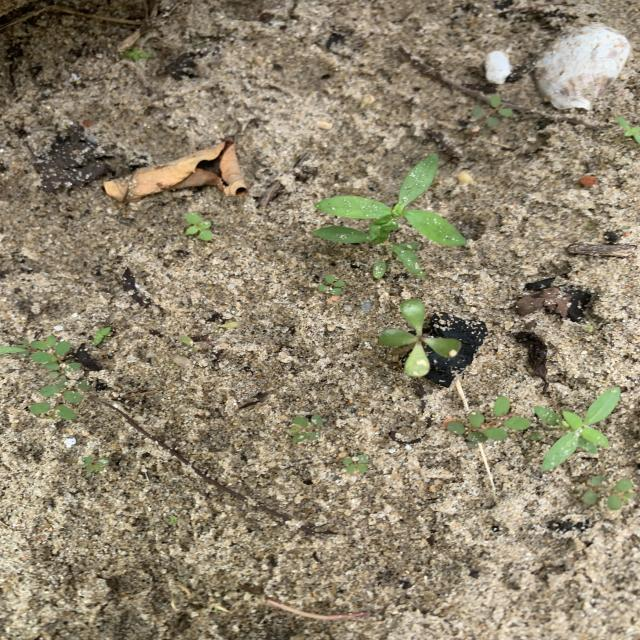weed: (315, 155, 466, 278), (0, 337, 89, 419), (536, 388, 619, 471), (380, 300, 459, 376), (446, 396, 529, 446), (581, 475, 634, 508), (470, 95, 513, 127), (291, 414, 322, 441), (186, 213, 211, 239), (617, 117, 639, 144), (318, 275, 343, 294), (342, 454, 367, 472), (82, 455, 109, 471), (123, 47, 150, 61), (93, 327, 110, 343)
